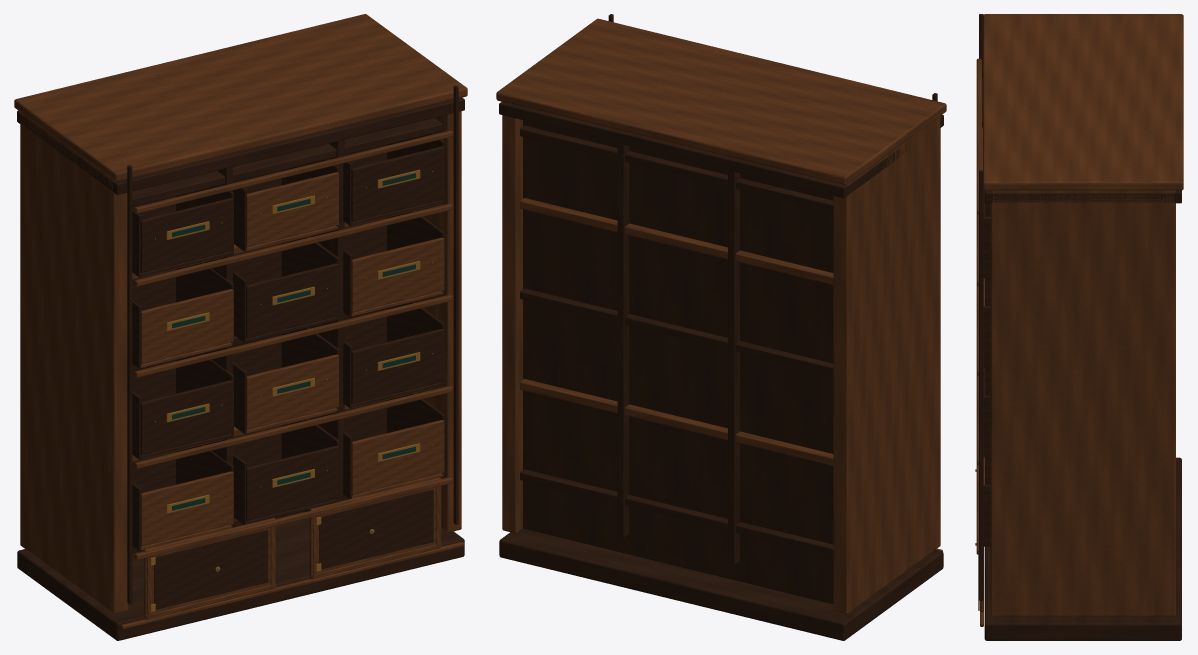
The model's file is asset.glb.
3 views of the same model, side by side, from view 1: azimuth 30°, elevation 25°; view 2: azimuth 150°, elevation 25°; view 3: azimuth 270°, elevation 25° (orthographic).
Parts seen in each view (by area): view 1: MaterialBatch_Quarter-sawn_oak, MaterialBatch_Smoke-stained_walnut, MaterialBatch_Aged_brass, MaterialBatch_Deep_enamel_green; view 2: MaterialBatch_Smoke-stained_walnut, MaterialBatch_Quarter-sawn_oak; view 3: MaterialBatch_Quarter-sawn_oak, MaterialBatch_Smoke-stained_walnut.
Part boxes in pixels (left/top/right/bottom): MaterialBatch_Quarter-sawn_oak: left=14, top=14, right=467, bottom=629; MaterialBatch_Smoke-stained_walnut: left=17, top=85, right=464, bottom=640; MaterialBatch_Aged_brass: left=150, top=169, right=433, bottom=612; MaterialBatch_Deep_enamel_green: left=172, top=173, right=415, bottom=510; MaterialBatch_Smoke-stained_walnut: left=499, top=14, right=943, bottom=640; MaterialBatch_Quarter-sawn_oak: left=496, top=18, right=946, bottom=614; MaterialBatch_Quarter-sawn_oak: left=976, top=14, right=1183, bottom=626; MaterialBatch_Smoke-stained_walnut: left=979, top=14, right=1181, bottom=640.
Size of the model in its own units: 40.5 by 52.08 by 21.13.
Materials: 6 (6 with a texture image).
